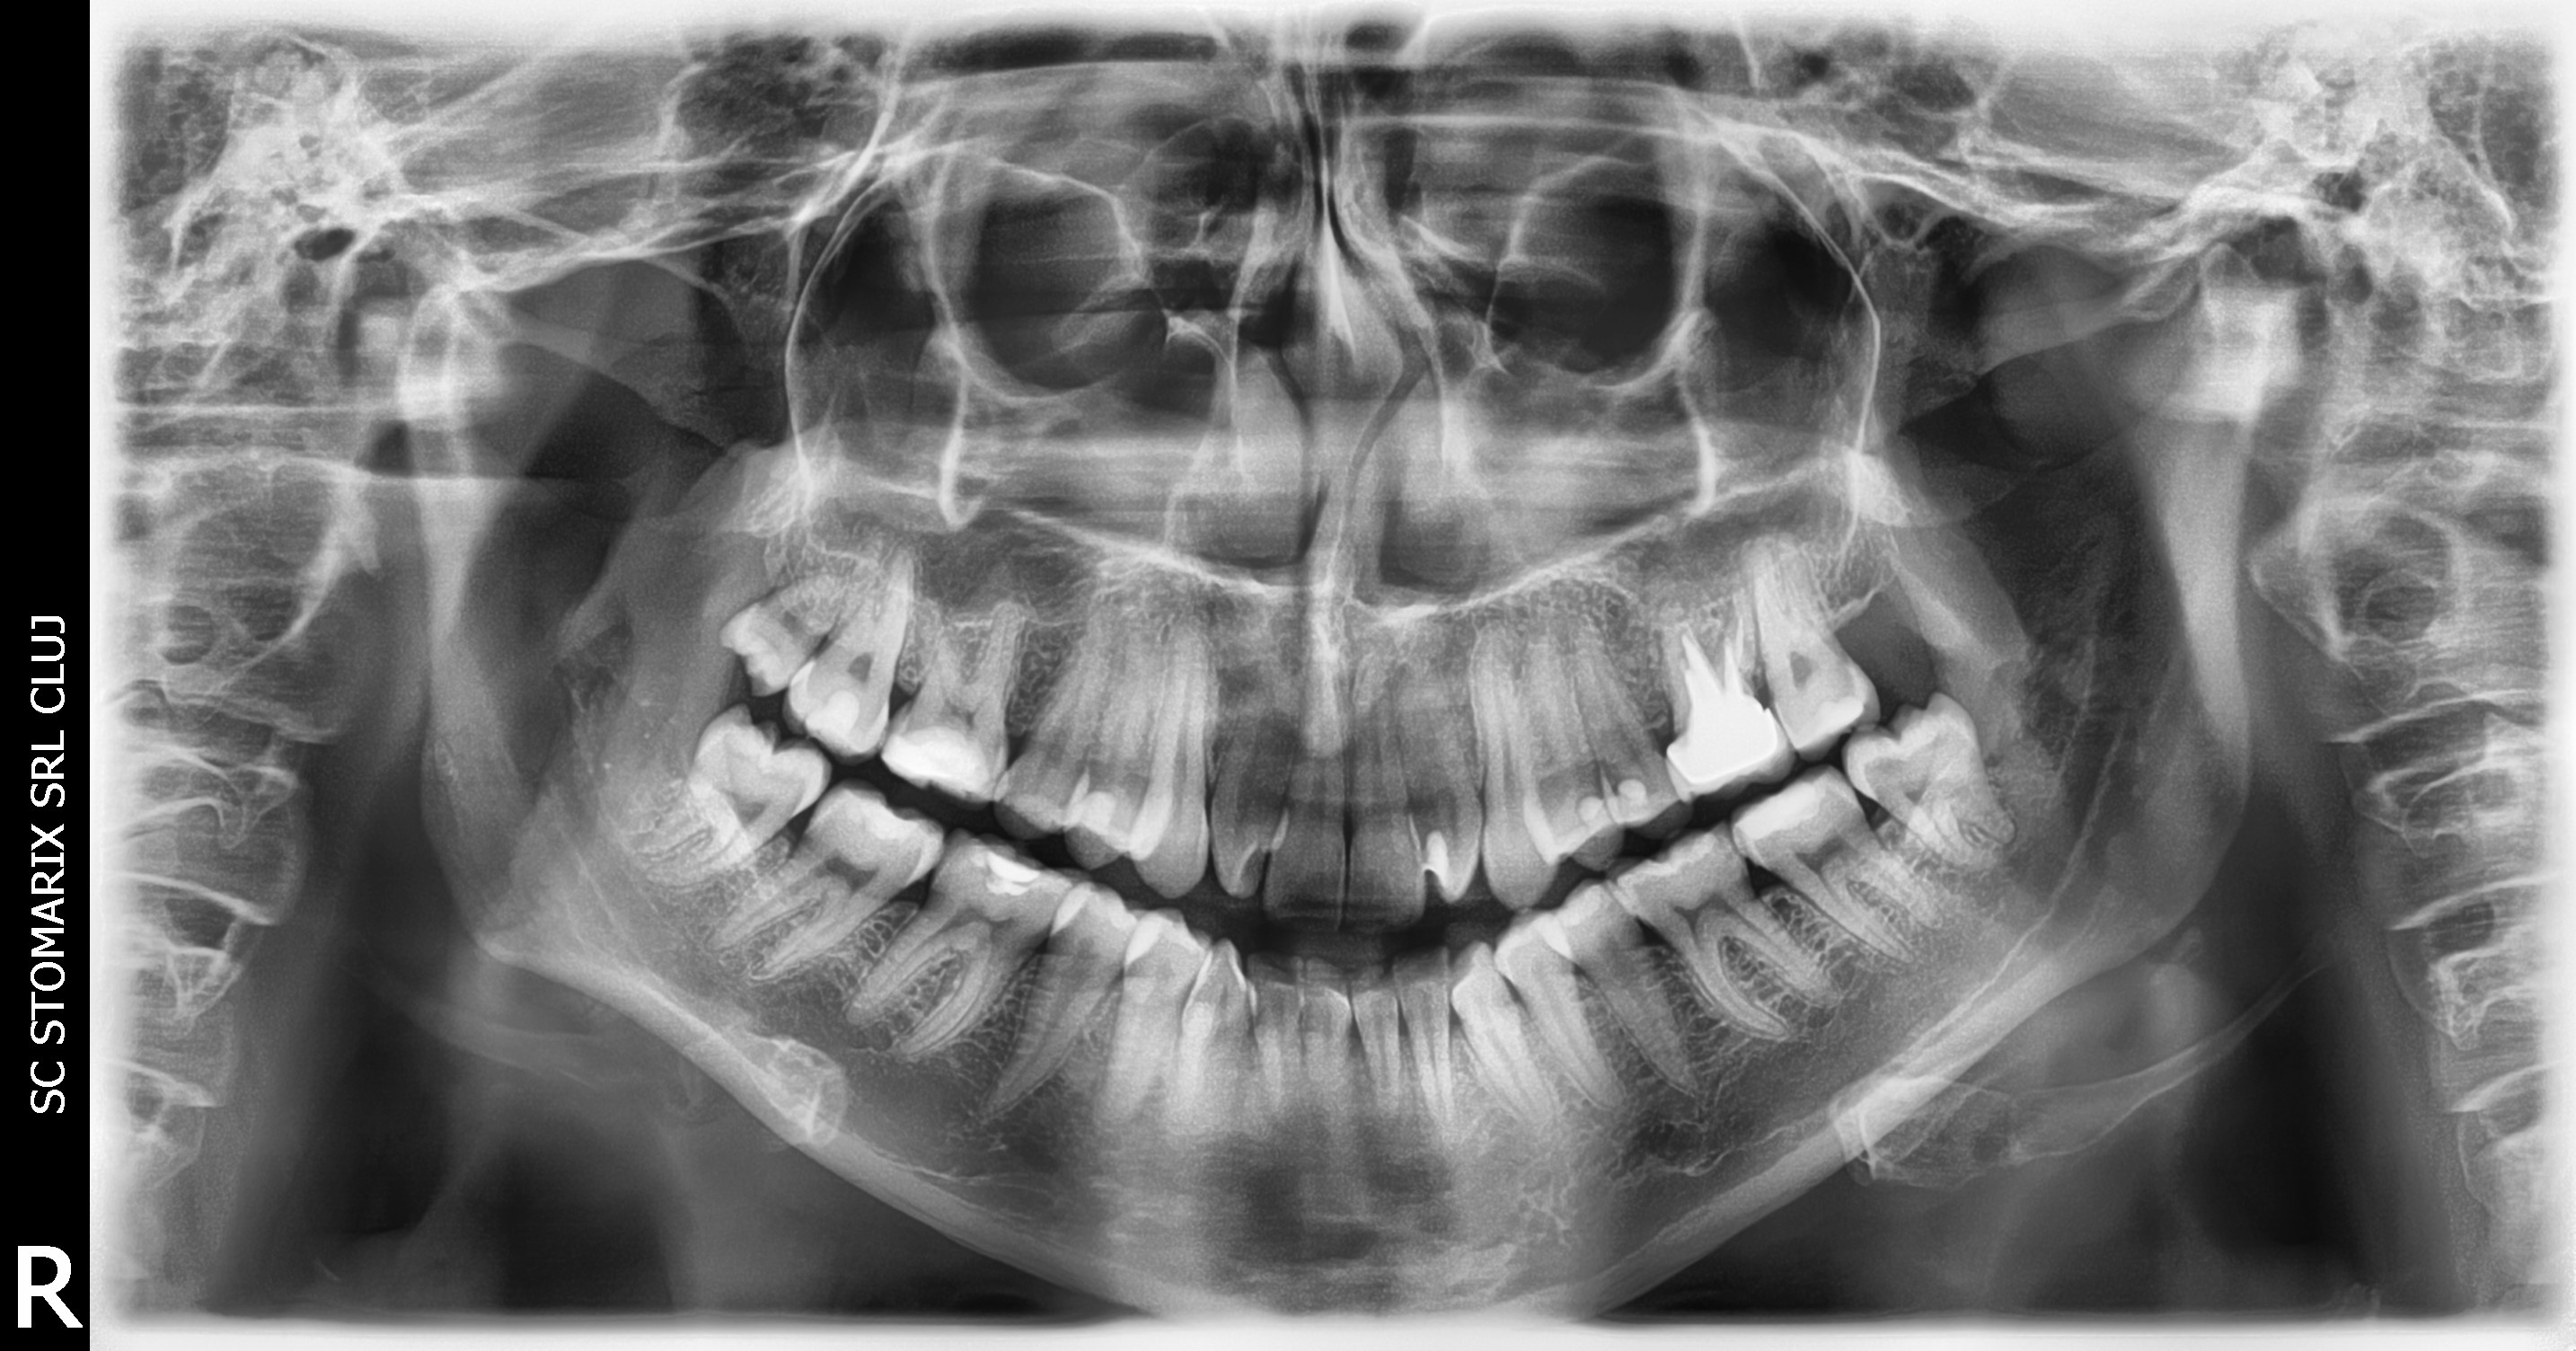BON: (709, 547, 840, 702)
END: (1642, 581, 1755, 702)
OBT: (1647, 707, 1782, 804)
PRR: (881, 724, 1007, 794), (959, 828, 1060, 911), (789, 693, 884, 744), (845, 794, 927, 848), (1409, 821, 1465, 894), (1067, 784, 1124, 848), (1789, 702, 1877, 738), (1559, 792, 1617, 831), (1612, 768, 1651, 809)
